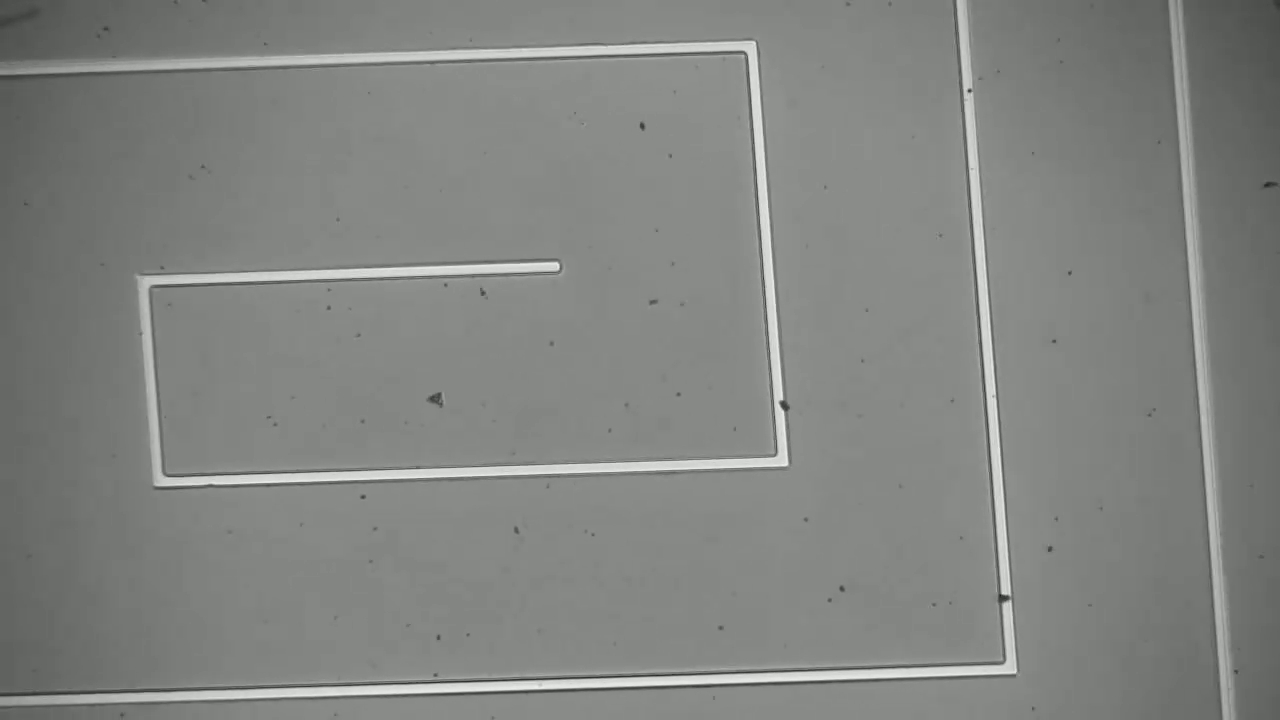stains_enbedded: (763, 388, 802, 420), (991, 584, 1029, 611)
